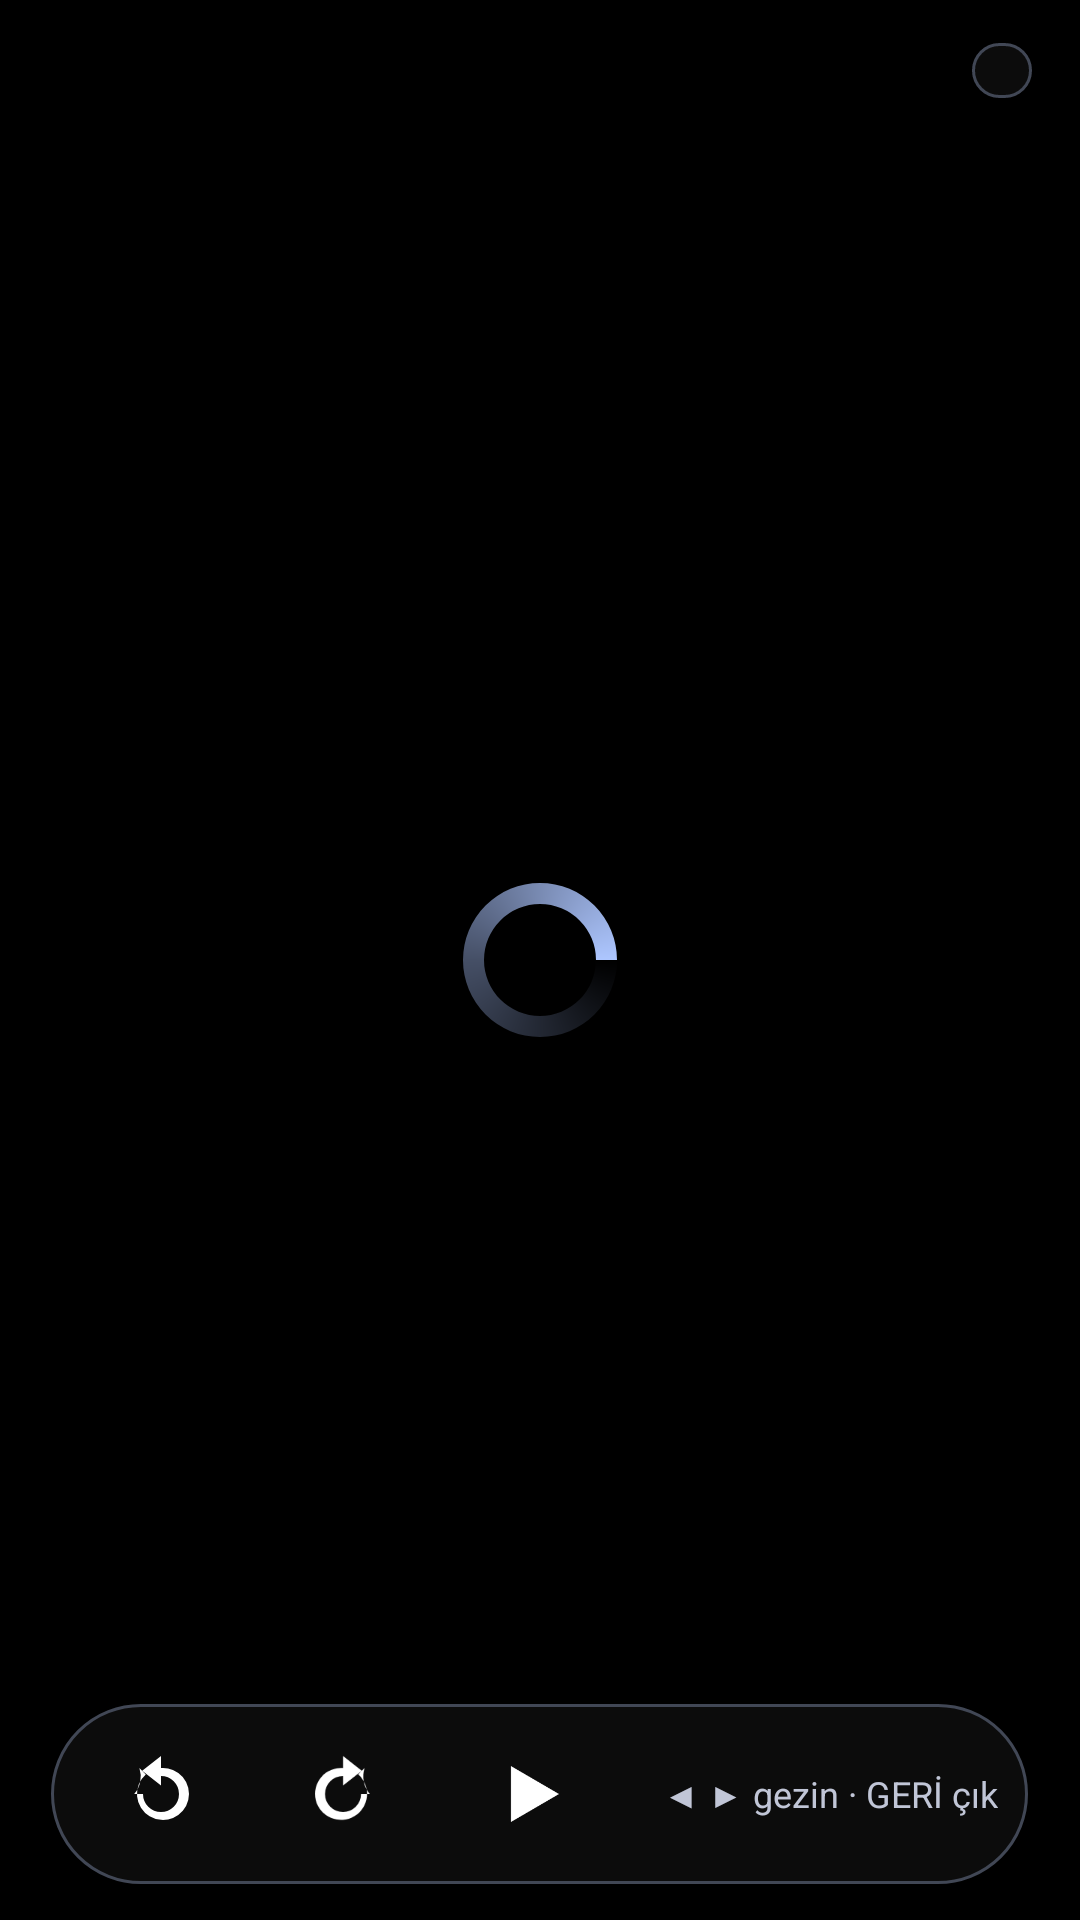

Icons on this 1080 x 1920 Android screen, each with the point to tap as (x=x, y=y):
Sağa döndür: (x=342, y=1788)
Slayt gösterisi: (x=535, y=1794)
Sola döndür: (x=161, y=1788)
